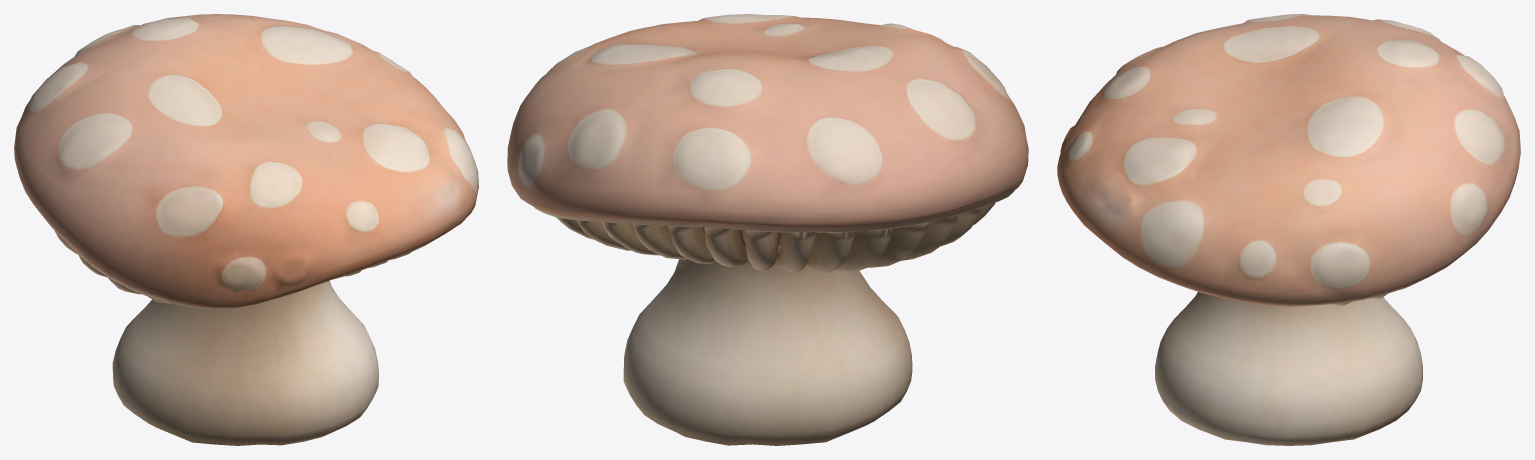
File: peach-mushroom.glb
3 renders of one model, left to right at view 1: azimuth 30°, elevation 25°; view 2: azimuth 150°, elevation 25°; view 3: azimuth 270°, elevation 25°, orthographic. The views are drawn at different scales.
Parts seen in each view (by area): view 1: tripo_node_3862301c-497a-4bbf-91a9-963ad93832f0; view 2: tripo_node_3862301c-497a-4bbf-91a9-963ad93832f0; view 3: tripo_node_3862301c-497a-4bbf-91a9-963ad93832f0.
Part boxes in pixels (<box>): tripo_node_3862301c-497a-4bbf-91a9-963ad93832f0: <box>14,14,478,445</box>; tripo_node_3862301c-497a-4bbf-91a9-963ad93832f0: <box>507,14,1028,445</box>; tripo_node_3862301c-497a-4bbf-91a9-963ad93832f0: <box>1057,14,1520,445</box>.
Size of the model in its own units: 0.978 by 0.7866 by 0.9627.
1 material, 1 textured.
